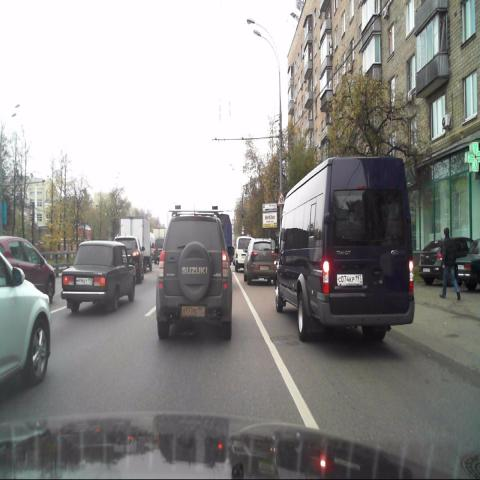1_23: (277, 192, 287, 205)
